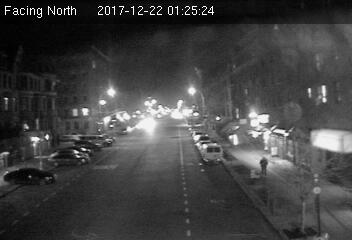pedestrian: (259, 156, 268, 177)
truck: (201, 141, 222, 162)
